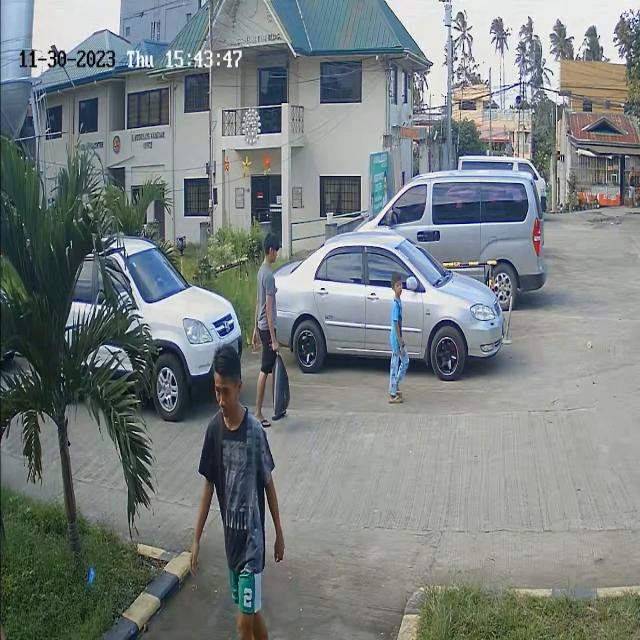garbage: (262, 345, 297, 416)
person: (202, 349, 255, 502), (252, 233, 284, 336), (386, 272, 412, 350)
